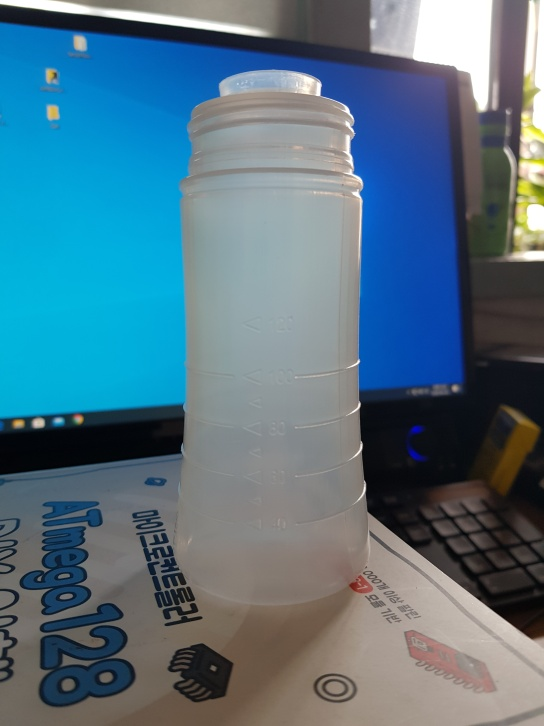Plastic: (172, 68, 374, 607)
